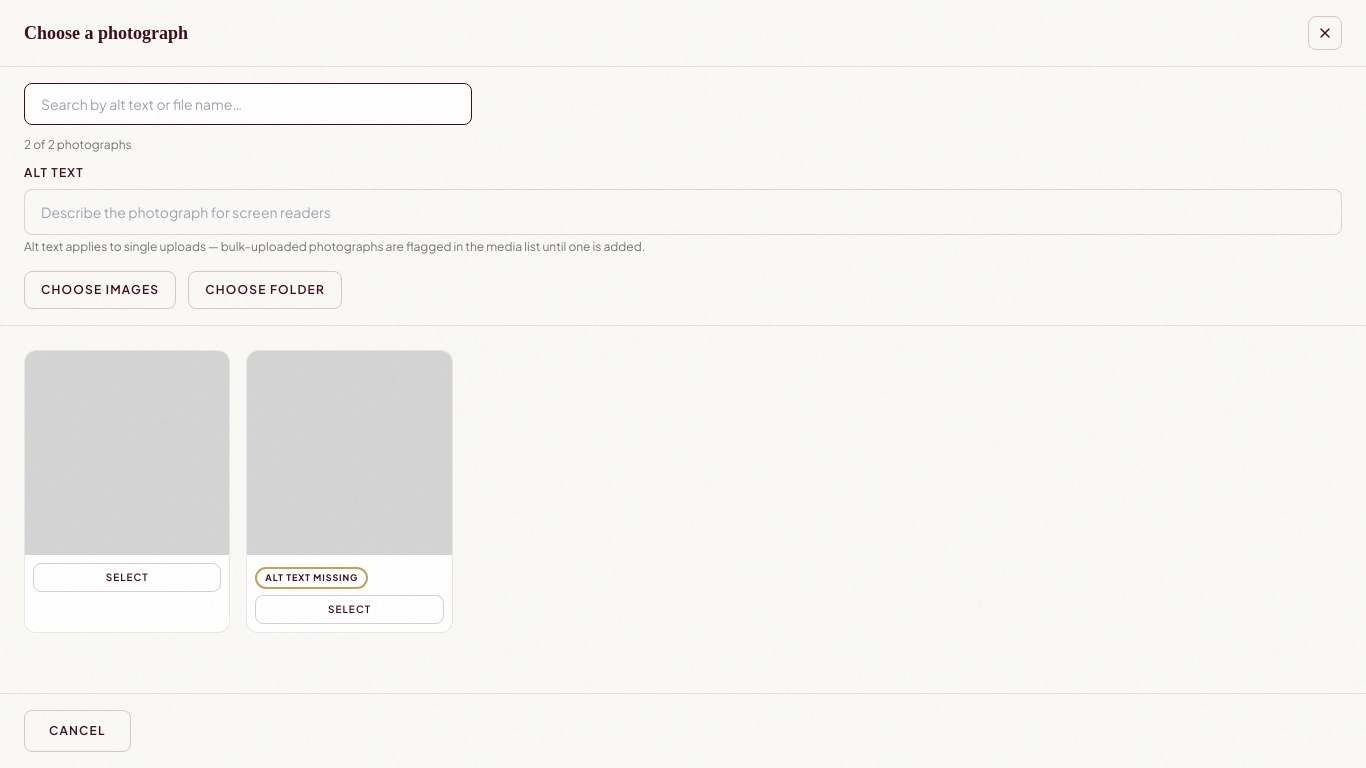
Test case: MediaPickerDialog › shows a zero-match message distinct from the empty-library state
Type "zzz" into the search field at (248, 104), box [24,83,472,125]
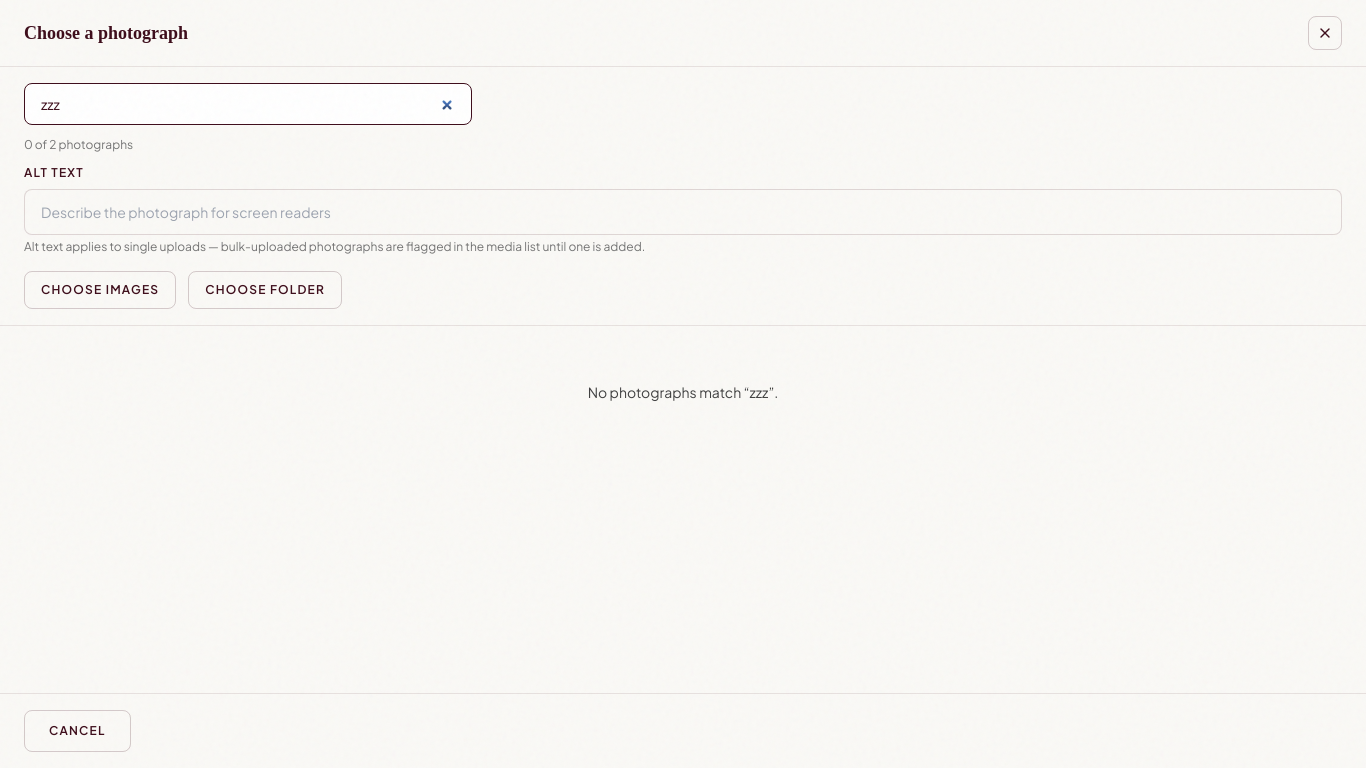
Check: the text "No photographs match “zzz”." is shown, box [588,383,778,401]
